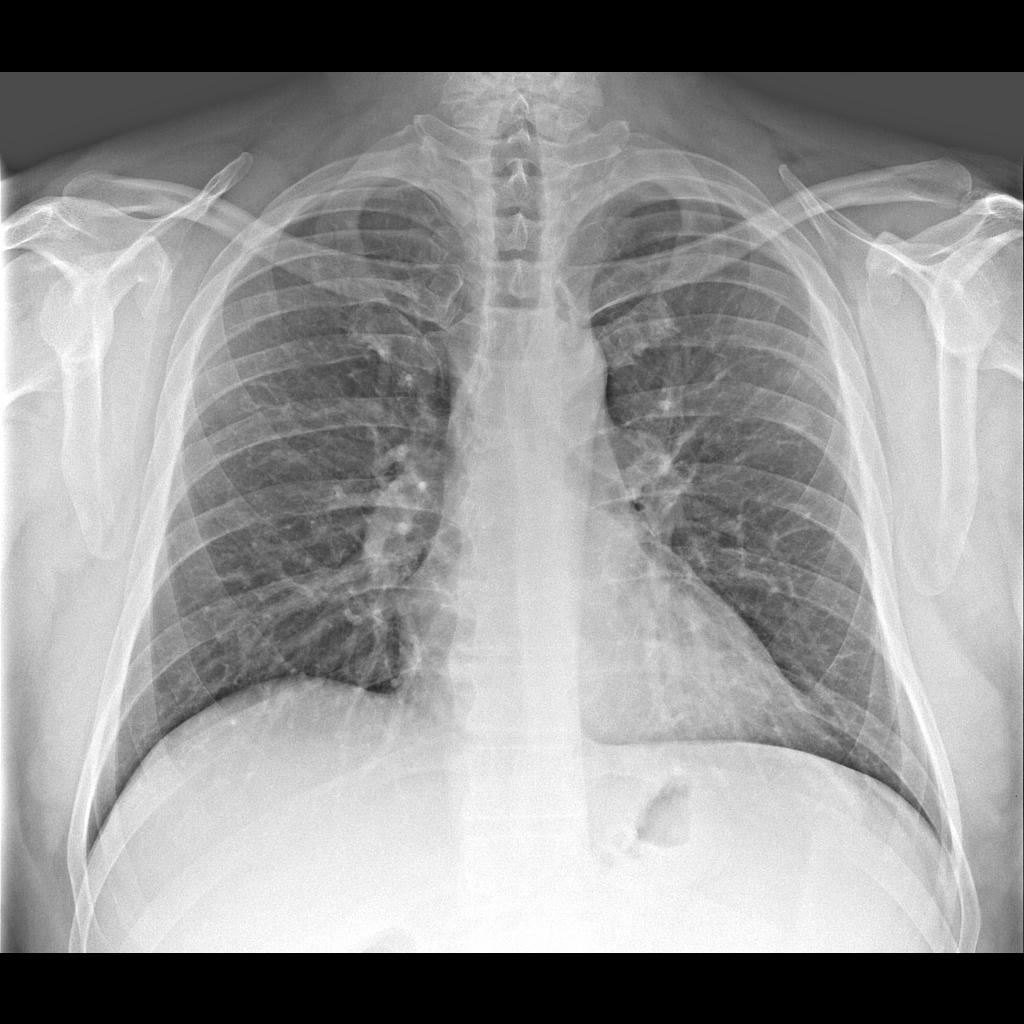Nodule: (781, 397, 815, 444)
